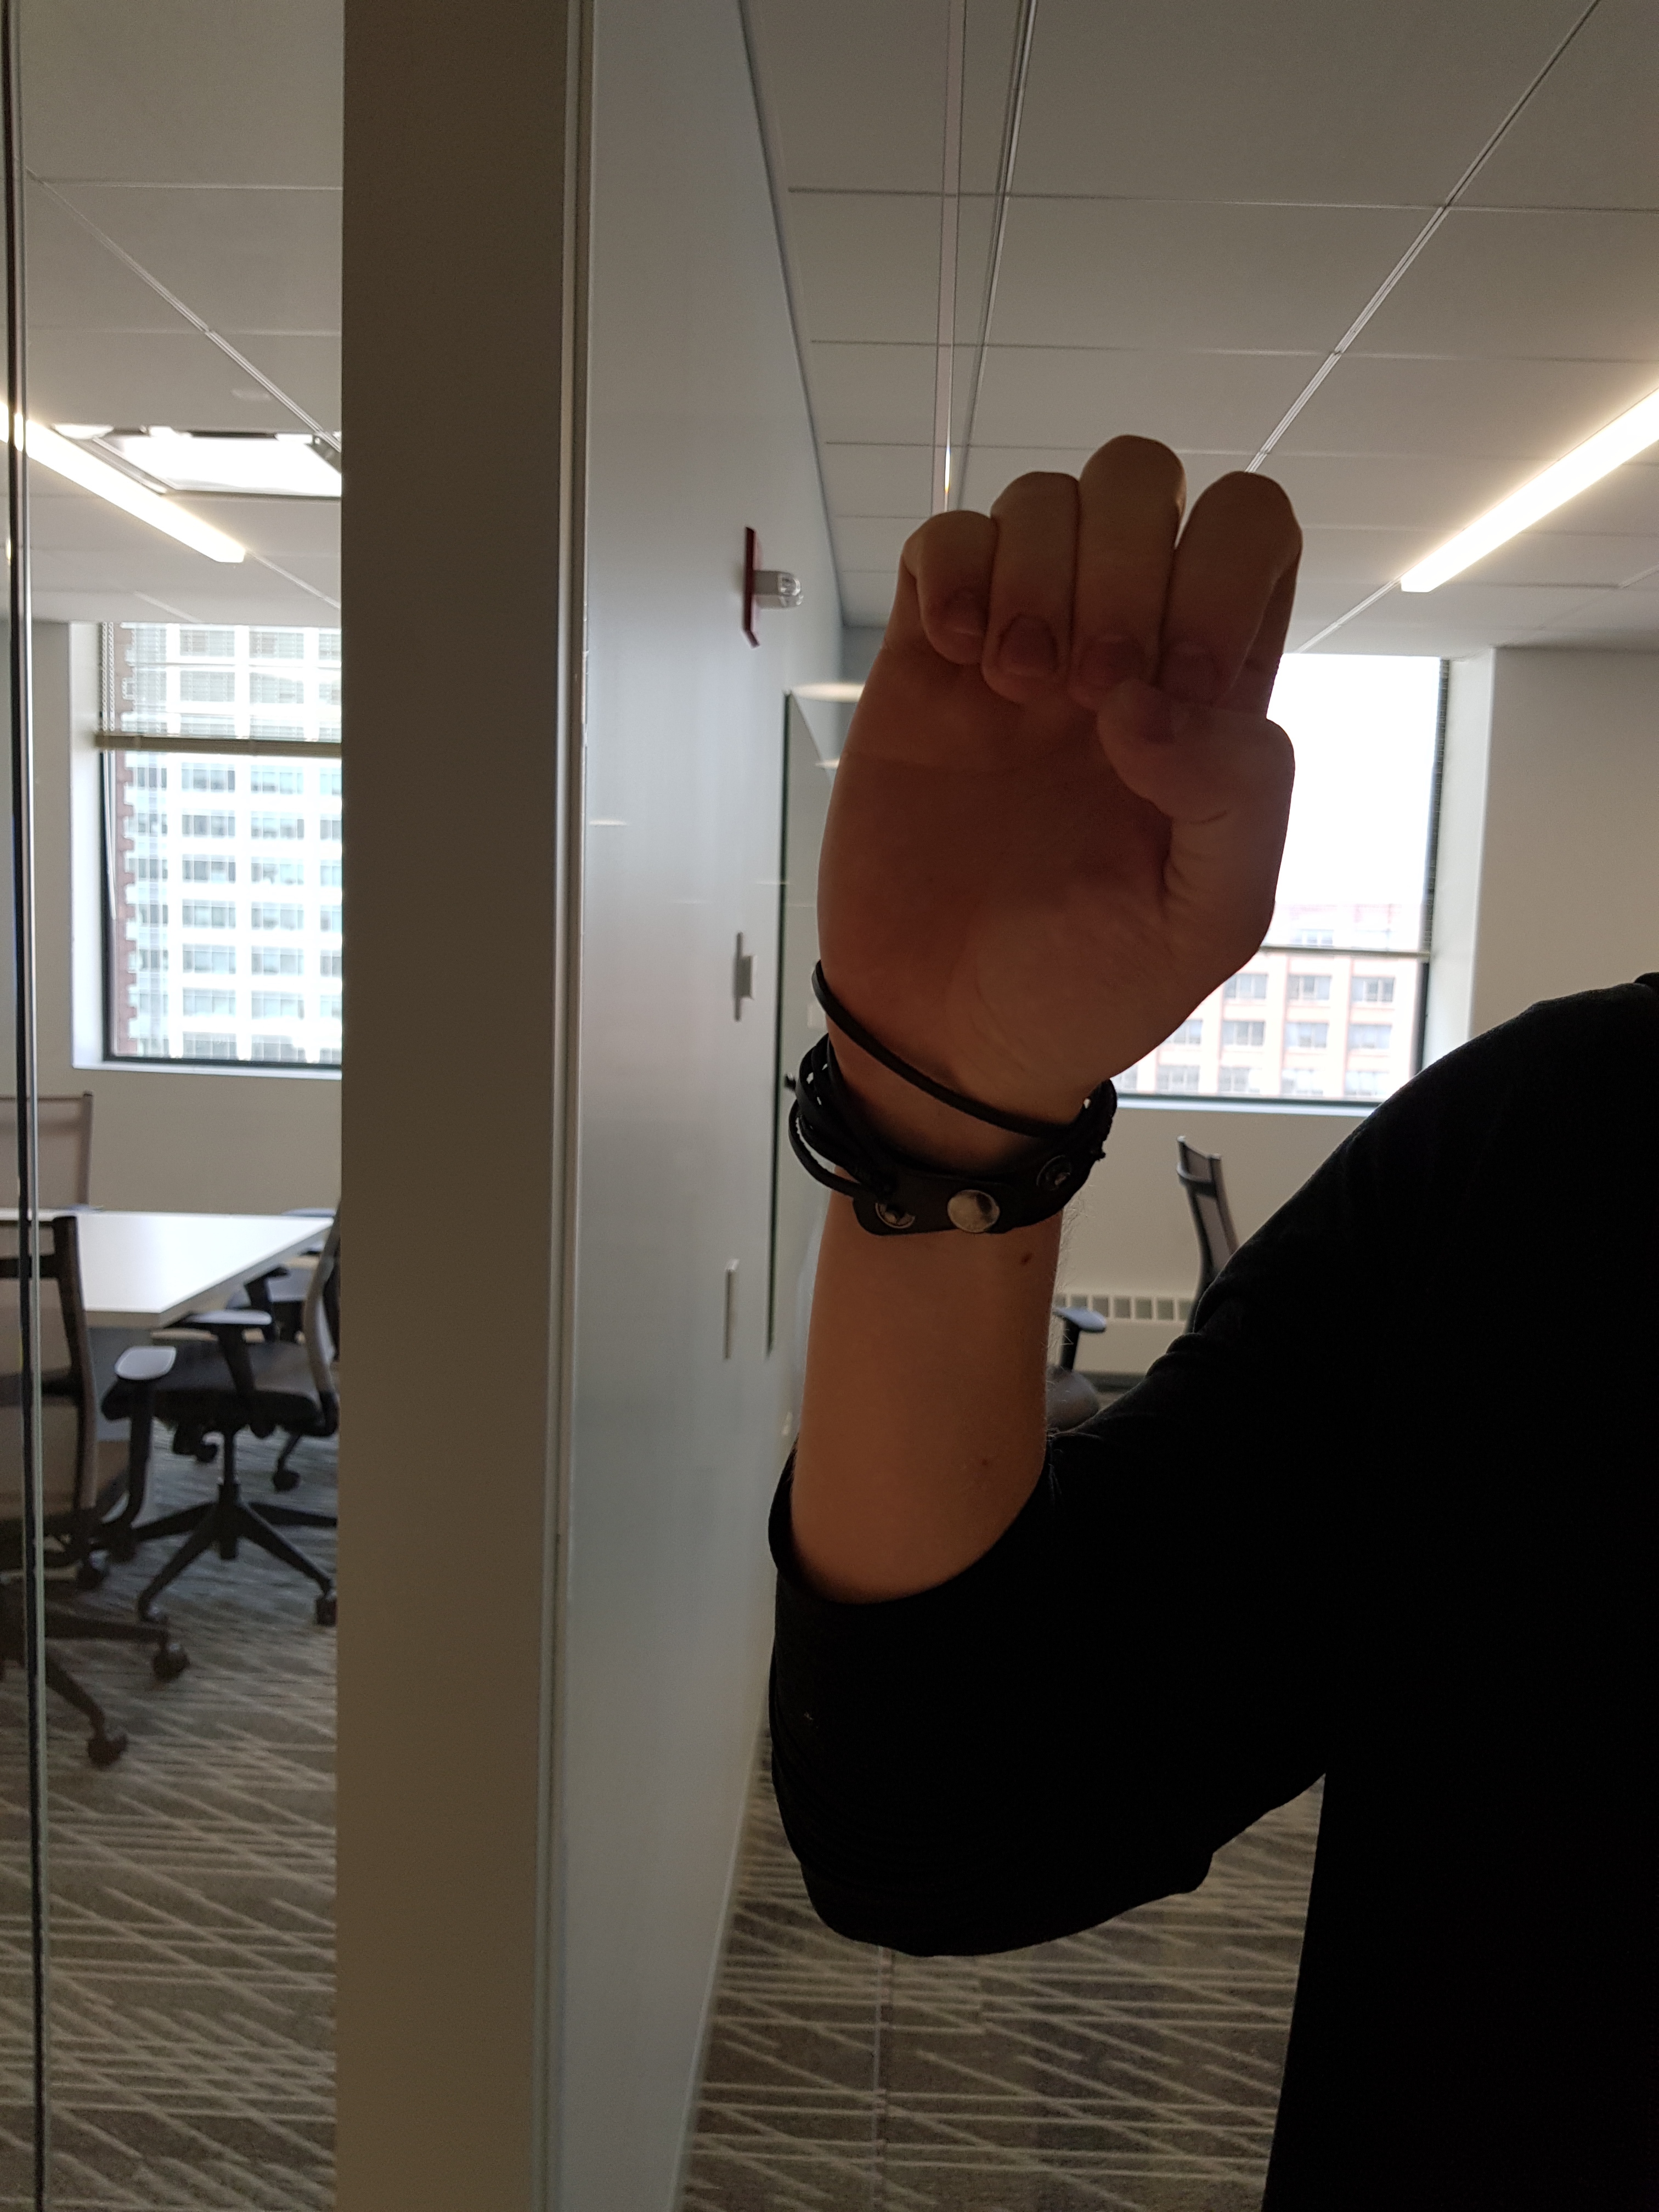e: (782, 411, 1328, 1151)
